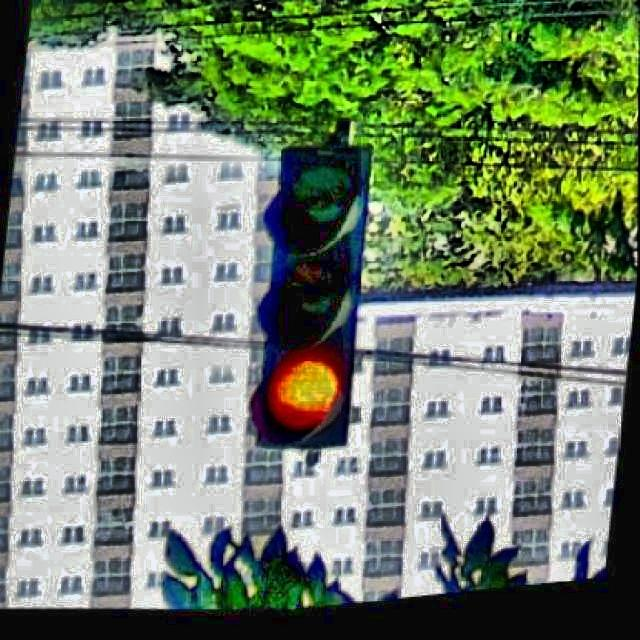red: (252, 144, 354, 445)
